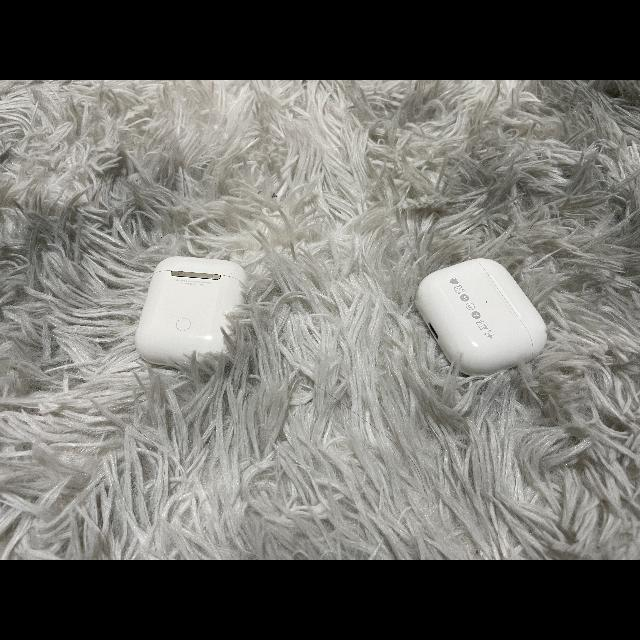airpod2: (136, 249, 246, 373)
airpod3: (416, 254, 548, 380)
